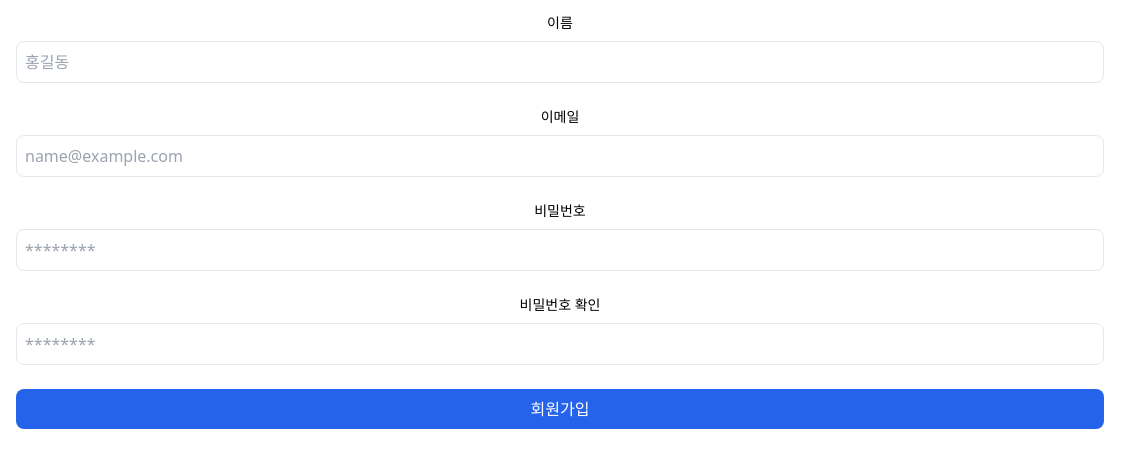
Test: SignupForm › 기본 랜더링 및 유효성 검사 › 비밀번호가 일치않을 때 에러메시지를 표시해야 함
This screenshot has width=1121, height=474.
In the field with test id "name-input": (560, 62) [16,41,1104,83], type "james"
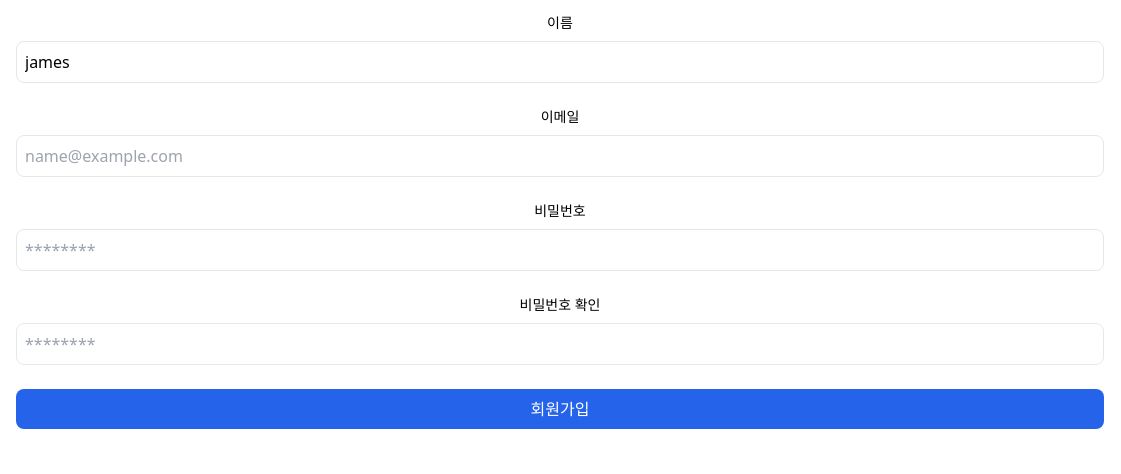
In the field with test id "email-input": (560, 156) [16,135,1104,177], type "test@example.com"
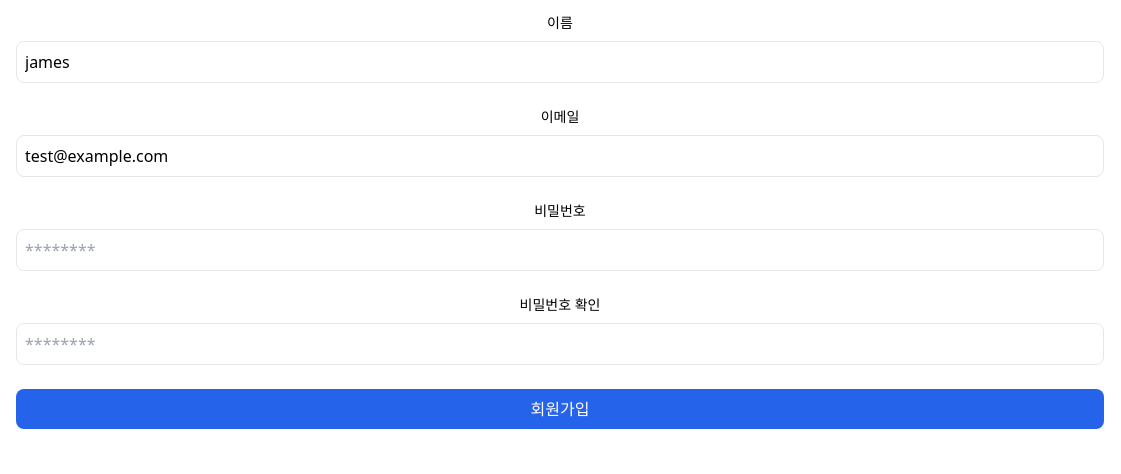
In the password field with test id "password-input": (560, 250) [16,229,1104,271], type "password"
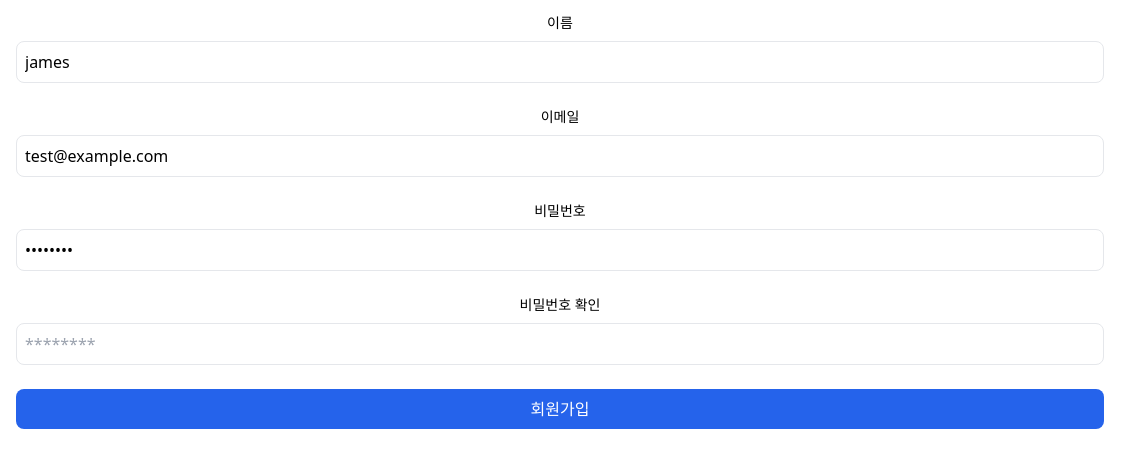
In the password field with test id "password-confirm-input": (560, 344) [16,323,1104,365], type "password1234"
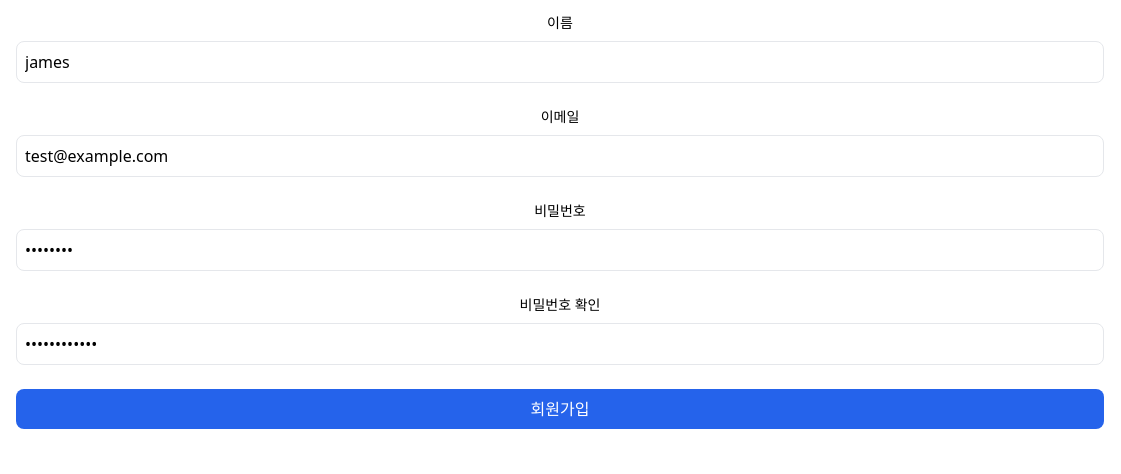
Click the button with test id "submit-button": (560, 409) [16,389,1104,429]
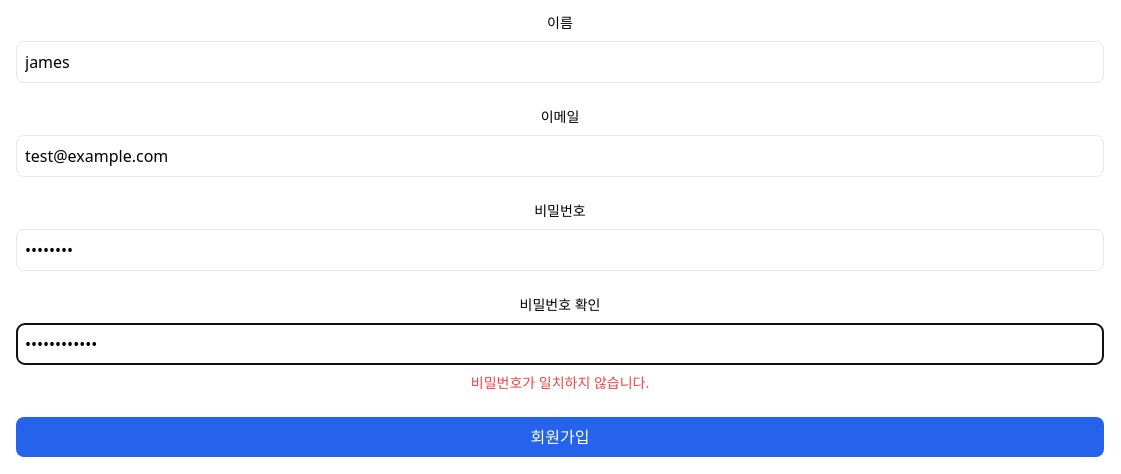
Result: the text with test id "password-confirm-error" shows "비밀번호가 일치하지 않습니다" at [471,373,649,392]
